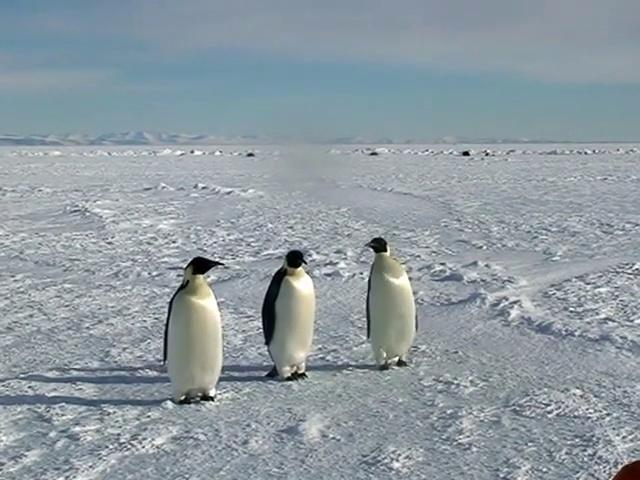animal: (367, 239, 419, 370)
